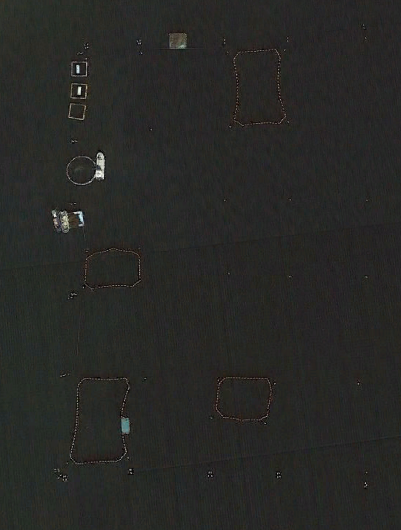circle: (64, 151, 98, 188)
platform: (68, 210, 87, 229)
ship: (93, 149, 108, 182), (46, 207, 58, 234), (58, 208, 70, 235)
square: (68, 374, 133, 465), (223, 43, 293, 127), (211, 367, 275, 423), (81, 242, 147, 290), (162, 31, 192, 53), (68, 57, 92, 79), (68, 100, 90, 123), (67, 79, 91, 99)
